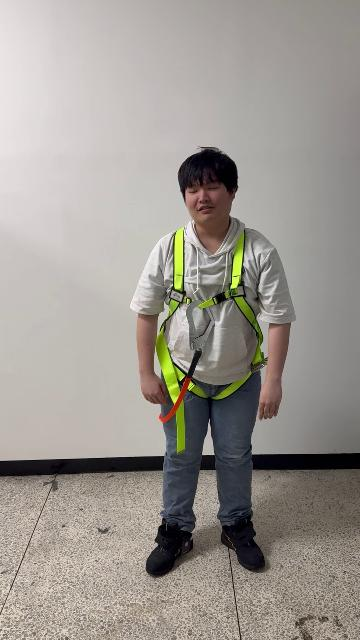helmet_not_worn: (178, 148, 241, 210)
shoe_worn: (145, 520, 194, 576), (221, 517, 265, 570)
vest_worn: (153, 225, 265, 443)
